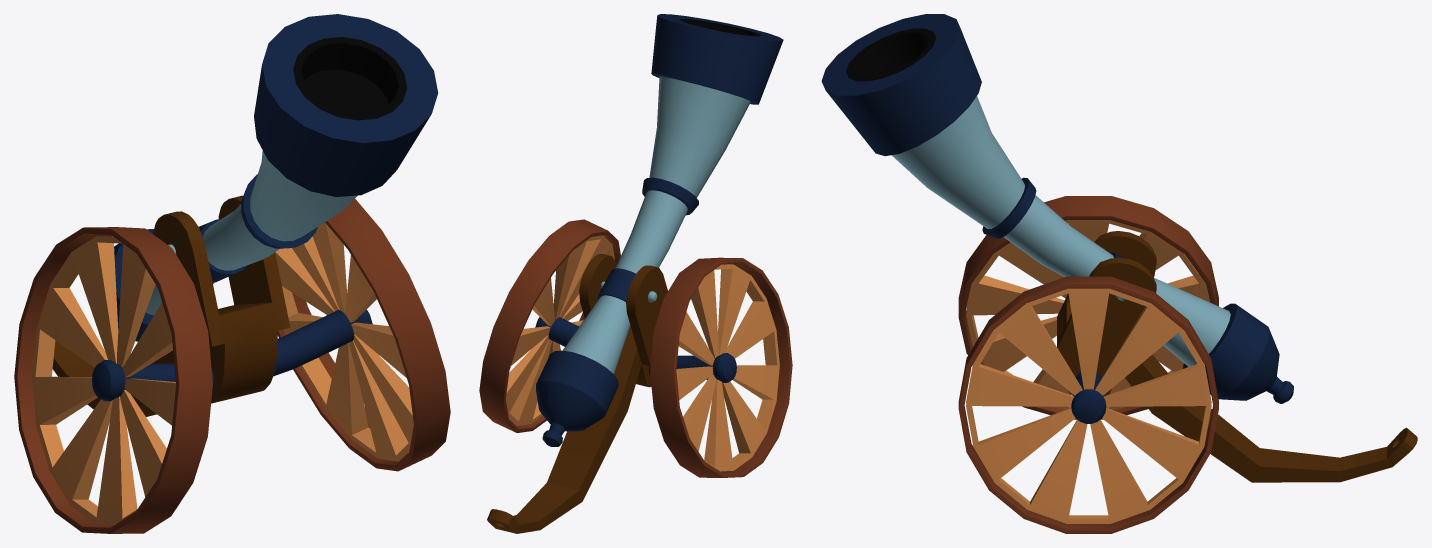
Rendered from Canon_01.fbx.
3 views of the same model, side by side, from view 1: azimuth 30°, elevation 25°; view 2: azimuth 150°, elevation 25°; view 3: azimuth 270°, elevation 25° (orthographic). The views are drawn at different scales.
Visible parts, largest first — view 1: Roda.001, Cylinder, Roda, Body Canon; view 2: Cylinder, Roda.001, Roda, Body Canon; view 3: Roda.001, Cylinder, Body Canon, Roda.
Boxes of the visible parts, left/top/right/bottom form: Roda.001: left=32, top=222, right=413, bottom=524; Cylinder: left=114, top=14, right=438, bottom=341; Roda: left=14, top=199, right=450, bottom=533; Body Canon: left=52, top=195, right=290, bottom=416; Cylinder: left=536, top=14, right=783, bottom=446; Roda.001: left=506, top=235, right=779, bottom=471; Roda: left=479, top=219, right=792, bottom=477; Body Canon: left=487, top=254, right=667, bottom=533; Roda.001: left=966, top=220, right=1211, bottom=523; Cylinder: left=821, top=14, right=1293, bottom=403; Body Canon: left=1057, top=231, right=1417, bottom=482; Roda: left=958, top=196, right=1218, bottom=533.
Size of the model in its own units: 3.79 by 5.88 by 7.11.
